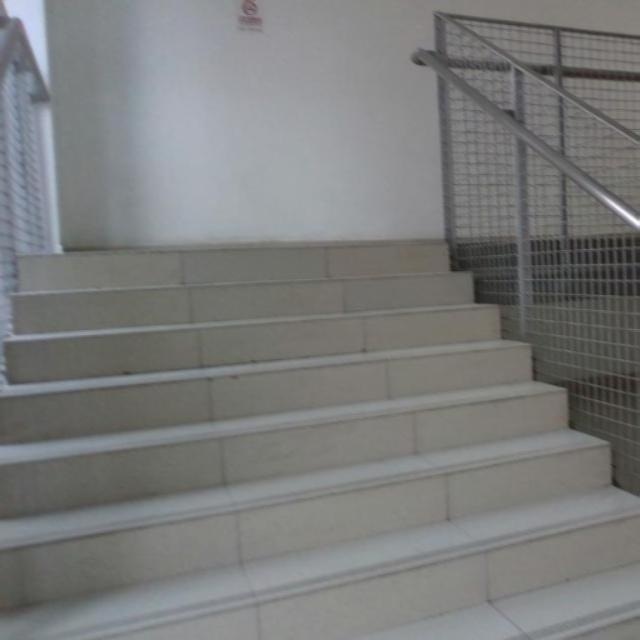stair: (0, 240, 600, 612)
